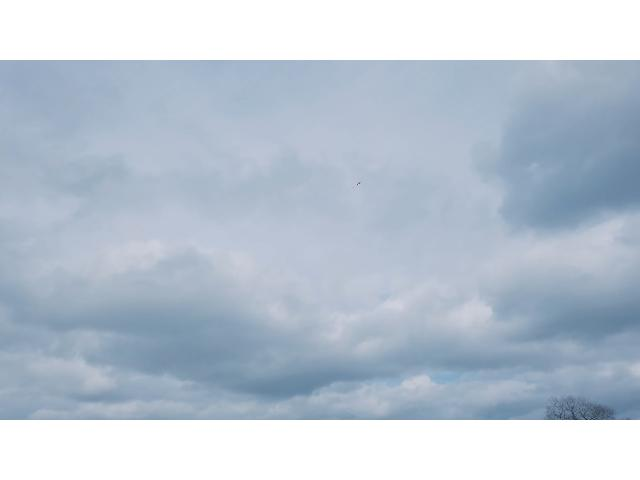Anti-Drone: (352, 176, 366, 190)
